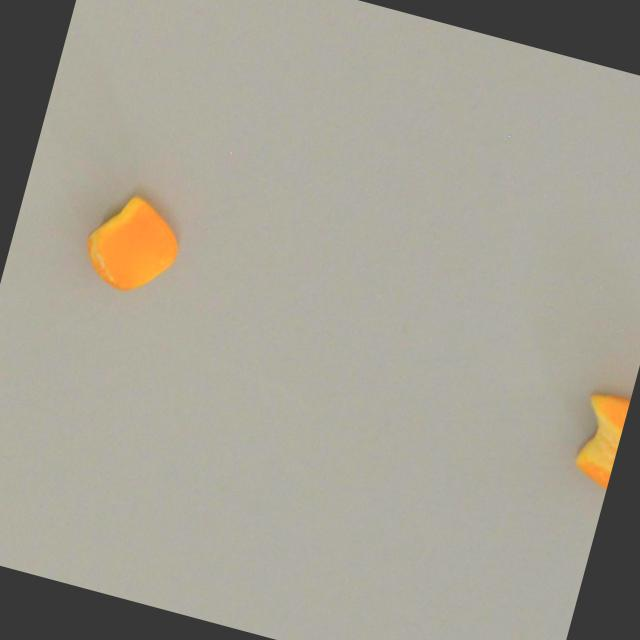no_canjicado: (71, 181, 193, 308), (547, 375, 633, 503)
